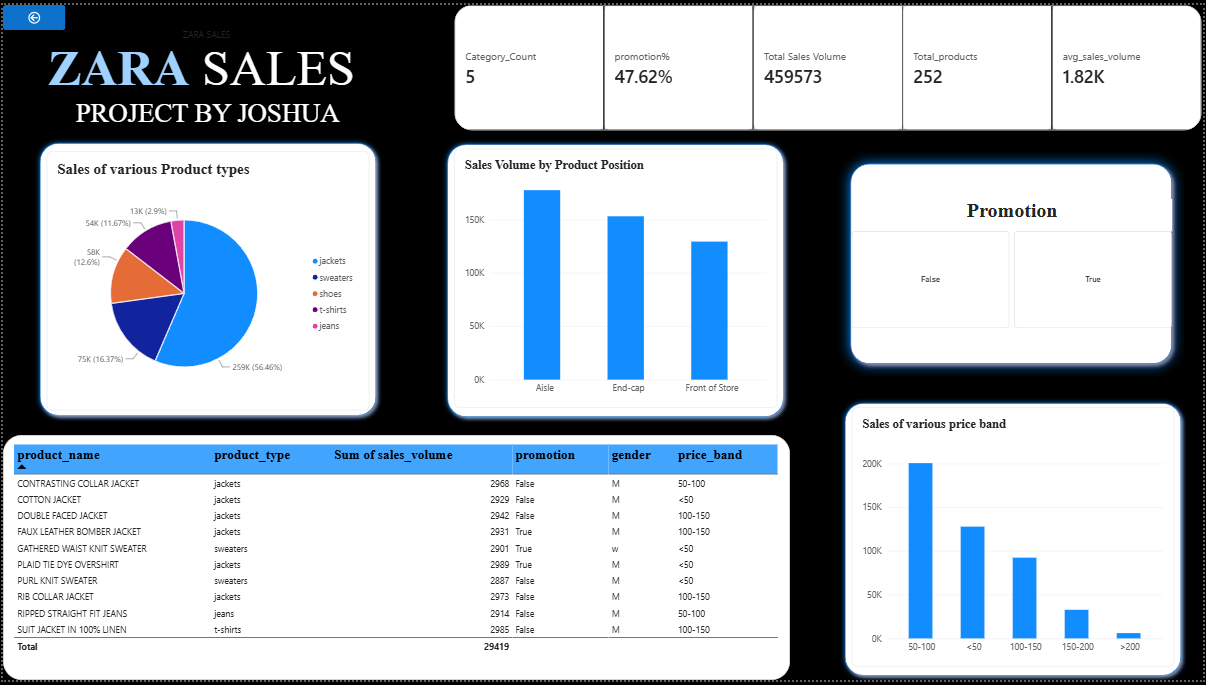

Layout of this report page (visuals, bound fields, positions):
{"tool":"powerbi","page":{"name":"Page 1","canvas":[1920,1080],"ordinal":0},"visuals":[{"type":"cardVisual","fields":{"Data":["public zara_products.Category_Count","public zara_products.promotion%","public zara_products.Total Sales Volume","public zara_products.Total_products","public zara_products.avg_sales_volume"]},"box":[0,0,1920.4,168.8],"z":4},{"type":"pieChart","title":"Sales of various Product types","fields":{"Category":["public zara_products.product_type"],"Y":["Sum(public zara_products.sales_volume)"]},"box":[0,224.4,782.2,856.3],"z":5},{"type":"clusteredColumnChart","title":"Sales of various price position","fields":{"Category":["public zara_products.product_position"],"Y":["Sum(public zara_products.sales_volume)"]},"box":[782.2,652.5,623.7,428.1],"z":6},{"type":"clusteredColumnChart","title":"Sales of various price band","fields":{"Category":["public zara_products.price_band"],"Y":["Sum(public zara_products.sales_volume)"]},"box":[782.2,224.4,623.7,428.1],"z":7},{"type":"advancedSlicerVisual","fields":{"Values":["public zara_products.product_type"]},"box":[1406.1,456.4,513.5,327.6],"z":8},{"type":"advancedSlicerVisual","title":"Promotion","fields":{"Values":["public zara_products.promotion"]},"box":[1406.1,784.1,513.5,296.3],"z":9},{"type":"tableEx","fields":{"Values":["public zara_products.product_name","public zara_products.product_type","Sum(public zara_products.sales_volume)"]},"box":[1406.1,224.5,513.5,231.9],"z":10},{"type":"actionButton","box":[0,0,100,40],"z":11}]}

Visuals, with their boxes on the page's 1920x1080 design canvas (x1, y1, x2, y2). These are canvas units, not pixel positions in the 1206x685 screenshot, which may show the page scaled, cropped or inside an application window:
cardVisual - public zara_products.Category_Count x public zara_products.promotion%: {"left": 0, "top": 0, "right": 1920, "bottom": 169}
"Sales of various Product types" pieChart: {"left": 0, "top": 224, "right": 782, "bottom": 1081}
"Sales of various price position" clusteredColumnChart: {"left": 782, "top": 652, "right": 1406, "bottom": 1081}
"Sales of various price band" clusteredColumnChart: {"left": 782, "top": 224, "right": 1406, "bottom": 652}
advancedSlicerVisual - public zara_products.product_type: {"left": 1406, "top": 456, "right": 1920, "bottom": 784}
"Promotion" advancedSlicerVisual: {"left": 1406, "top": 784, "right": 1920, "bottom": 1080}
tableEx - public zara_products.product_name x public zara_products.product_type: {"left": 1406, "top": 224, "right": 1920, "bottom": 456}
actionButton: {"left": 0, "top": 0, "right": 100, "bottom": 40}
